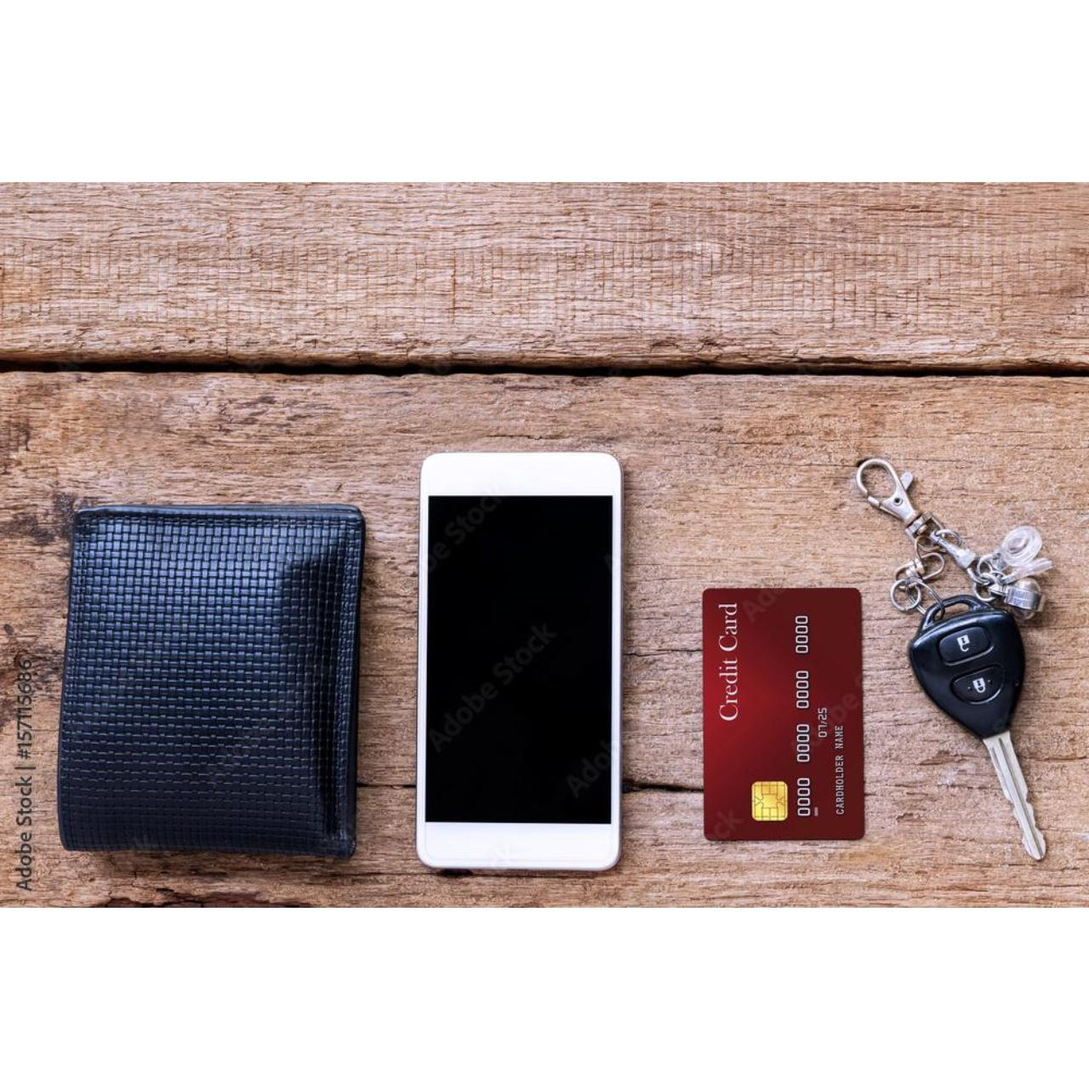wallet: (59, 476, 361, 887)
